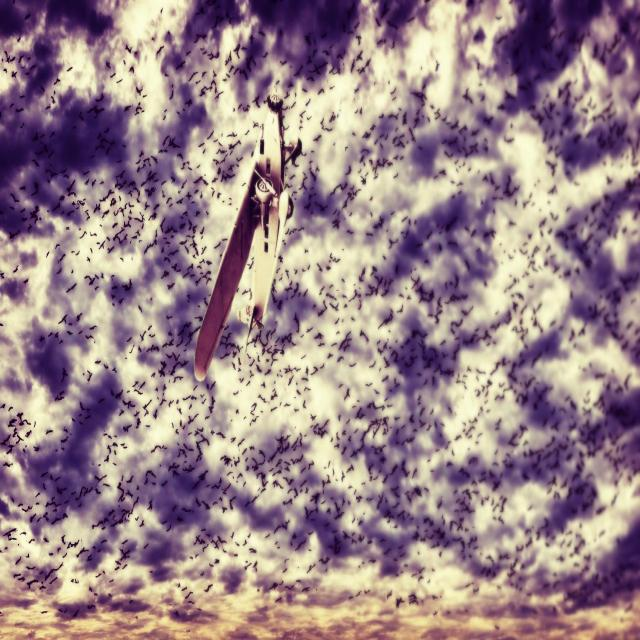airplane: (193, 91, 302, 383)
